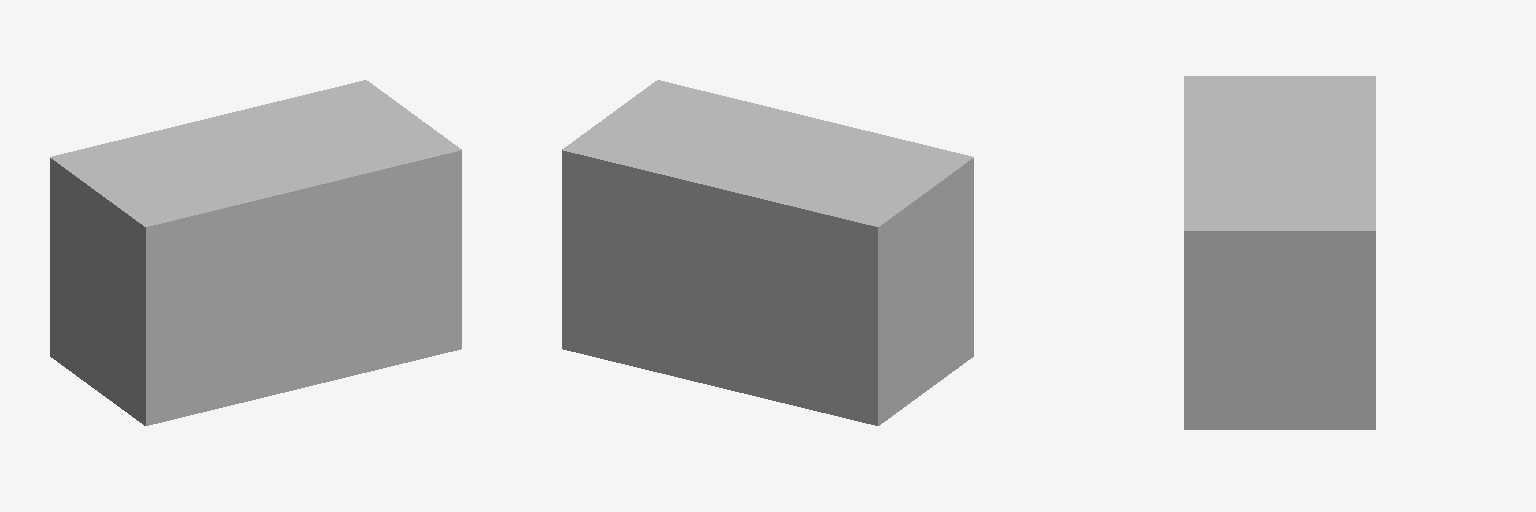
The model's file is mircrowave_rs_gb.obj.
3 renders of one model, left to right at view 1: azimuth 30°, elevation 25°; view 2: azimuth 150°, elevation 25°; view 3: azimuth 270°, elevation 25°, orthographic.
Parts seen in each view (by area): view 1: ____01; view 2: ____01; view 3: ____01.
Part boxes in pixels (x1,y1,x2,y2): ____01: (50,80,461,425); ____01: (562,80,973,425); ____01: (1184,76,1375,429).
Bounding box in the file's own units: 0.4 × 0.247 × 0.21.